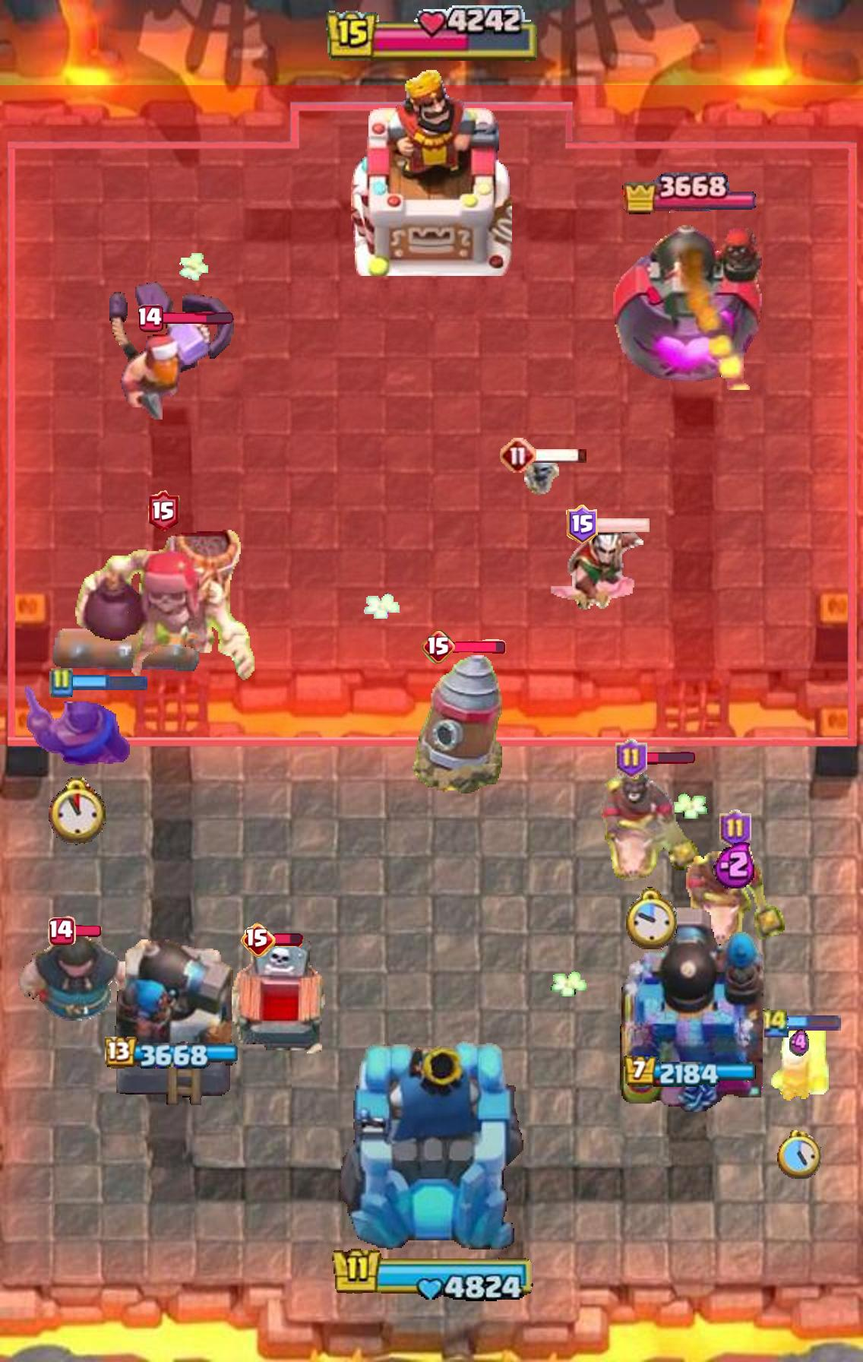bar: (594, 516, 650, 534), (159, 311, 233, 324), (533, 447, 589, 464), (451, 639, 506, 654), (643, 752, 695, 765), (272, 933, 303, 947), (72, 925, 101, 937)
bar-level: (500, 437, 536, 474), (148, 490, 180, 531), (566, 504, 598, 545), (719, 809, 751, 849), (615, 739, 647, 778), (241, 923, 276, 958), (422, 630, 456, 665), (48, 915, 76, 945), (138, 304, 163, 332)
